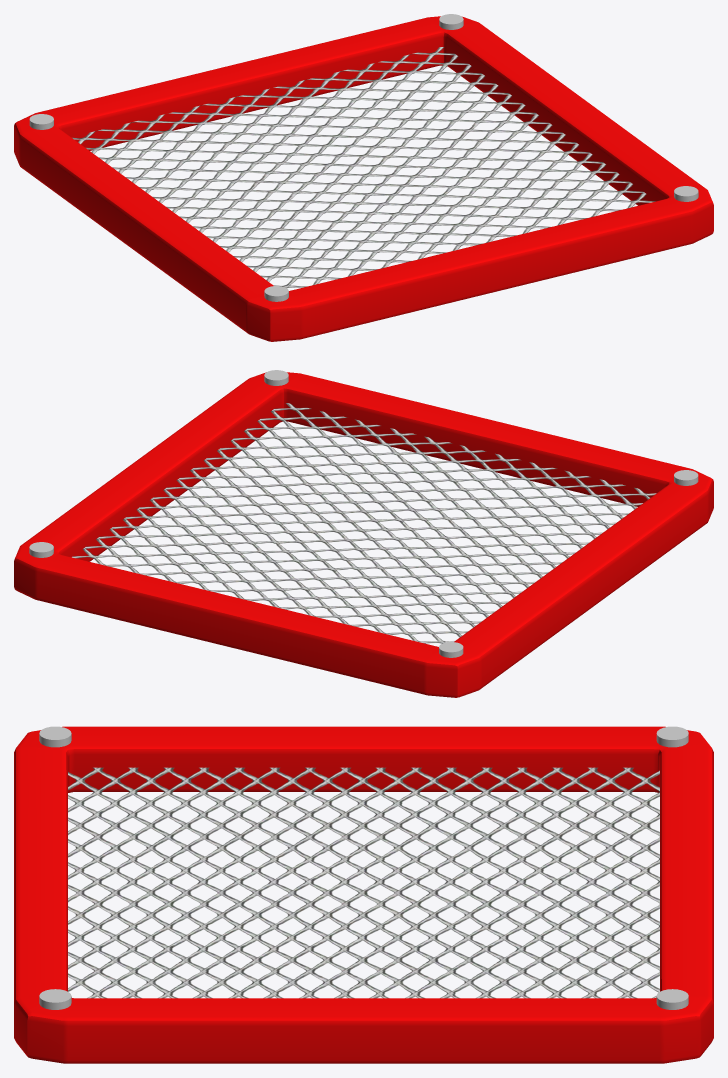
Rendered from Platform.glb.
3 renders of one model, top to bottom at view 1: azimuth 30°, elevation 25°; view 2: azimuth 150°, elevation 25°; view 3: azimuth 270°, elevation 25°, orthographic. The views are drawn at different scales.
Visible parts, largest first — view 1: platform__frame, platform_inner, bolts; view 2: platform__frame, platform_inner, bolts; view 3: platform__frame, platform_inner, bolts.
Boxes of the visible parts, bbox=[...] form: platform__frame: bbox=[14, 16, 713, 341]; platform_inner: bbox=[72, 47, 655, 287]; bolts: bbox=[29, 14, 698, 301]; platform__frame: bbox=[14, 372, 713, 697]; platform_inner: bbox=[72, 403, 656, 643]; bolts: bbox=[29, 370, 698, 657]; platform__frame: bbox=[14, 726, 713, 1063]; platform_inner: bbox=[68, 767, 659, 998]; bolts: bbox=[39, 726, 688, 1009].
Bounding box in the file's own units: 1 × 0.0846 × 1.
3 materials, 1 textured.
